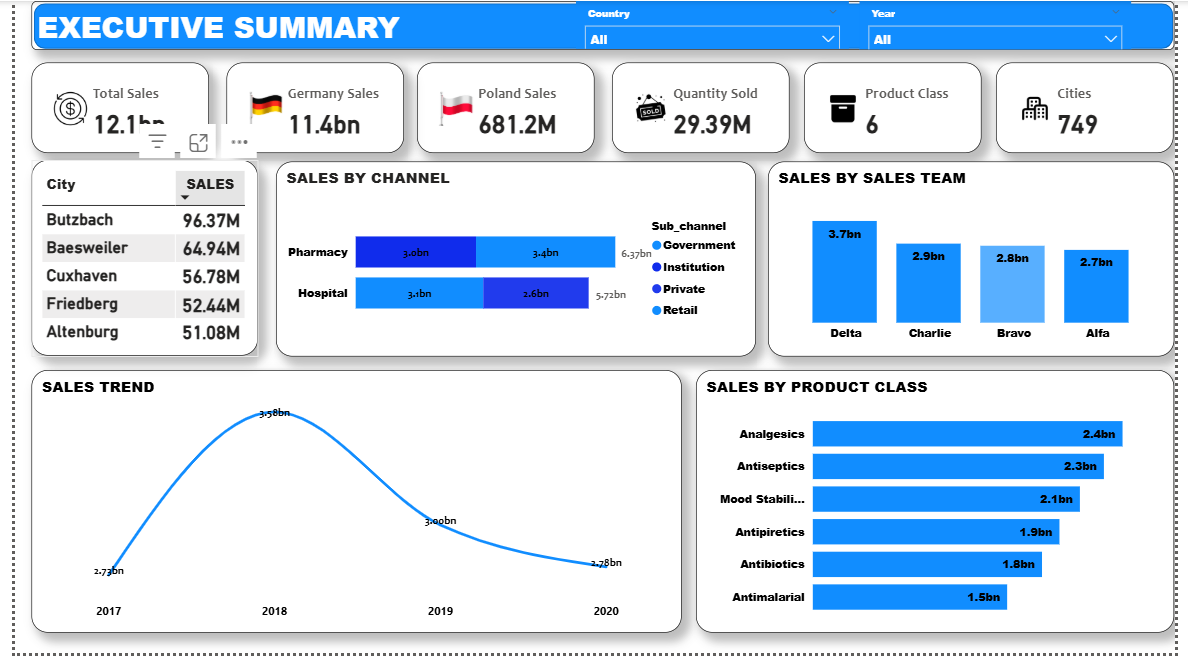

This screenshot's page, from the dashboard's own definition file:
{"tool":"powerbi","page":{"name":"OVERVIEW","canvas":[1280,720],"ordinal":0},"visuals":[{"type":"shape","box":[18,0,1262,54],"z":0},{"type":"cardVisual","fields":{"Data":["Sum(PHARM.Sales)"]},"box":[18,68,196,100],"z":1000},{"type":"cardVisual","fields":{"Data":["Sum(PHARM.Sales)"]},"box":[444,68,196,100],"z":2000},{"type":"cardVisual","fields":{"Data":["Sum(PHARM.Quantity)"]},"box":[660,68,196,100],"z":3000},{"type":"cardVisual","fields":{"Data":["Count(DIM_PRODUCT.Product_Class)"]},"box":[872,68,196,100],"z":4000},{"type":"cardVisual","fields":{"Data":["Sum(PHARM.Sales)"]},"box":[234,68,196,100],"z":5000},{"type":"cardVisual","fields":{"Data":["Count(PHARM.City)"]},"box":[1084,68,196,100],"z":6000},{"type":"barChart","title":"SALES BY CHANNEL","fields":{"Category":["DIM_CHANNEL.Channel"],"Y":["Sum(PHARM.Sales)"],"Series":["DIM_CHANNEL.Sub_channel"]},"box":[288.3,176.7,530,215],"z":7000},{"type":"lineChart","title":"SALES TREND","fields":{"Y":["DAX.Totalsales sumx"],"Category":["DIM_CALENDAR.Year","DIM_CALENDAR.Date.Variation.Date Hierarchy.Month"]},"box":[18,408,718,290],"z":8000},{"type":"columnChart","title":"SALES BY SALES TEAM","fields":{"Category":["PHARM.Sales_Team"],"Y":["Sum(PHARM.Sales)"]},"box":[831.7,176.7,448.3,215],"z":9000},{"type":"barChart","title":"SALES BY PRODUCT CLASS","fields":{"Category":["DIM_PRODUCT.Product_Class"],"Y":["Sum(PHARM.Sales)"]},"box":[752,408,528,290],"z":10000},{"type":"pivotTable","fields":{"Values":["Sum(PHARM.Sales)"],"Rows":["PHARM.City"]},"box":[18,176,250,216],"z":11000},{"type":"slicer","fields":{"Values":["DIM_CALENDAR.Year"]},"box":[933.3,0,300,53.3],"z":12000},{"type":"slicer","fields":{"Values":["DIM_LOCATION.Country"]},"box":[619.6,0,301.1,52.6],"z":12002}]}

Visuals, with their boxes on the page's 1280x720 design canvas (x1, y1, x2, y2). These are canvas units, not pixel positions in the 1188x663 screenshot, which may show the page scaled, cropped or inside an application window:
shape: rect(18, 0, 1280, 54)
cardVisual - Sum(PHARM.Sales): rect(18, 68, 214, 168)
cardVisual - Sum(PHARM.Sales): rect(444, 68, 640, 168)
cardVisual - Sum(PHARM.Quantity): rect(660, 68, 856, 168)
cardVisual - Count(DIM_PRODUCT.Product_Class): rect(872, 68, 1068, 168)
cardVisual - Sum(PHARM.Sales): rect(234, 68, 430, 168)
cardVisual - Count(PHARM.City): rect(1084, 68, 1280, 168)
"SALES BY CHANNEL" barChart: rect(288, 177, 818, 392)
"SALES TREND" lineChart: rect(18, 408, 736, 698)
"SALES BY SALES TEAM" columnChart: rect(832, 177, 1280, 392)
"SALES BY PRODUCT CLASS" barChart: rect(752, 408, 1280, 698)
pivotTable - Sum(PHARM.Sales) x PHARM.City: rect(18, 176, 268, 392)
slicer - DIM_CALENDAR.Year: rect(933, 0, 1233, 53)
slicer - DIM_LOCATION.Country: rect(620, 0, 921, 53)
